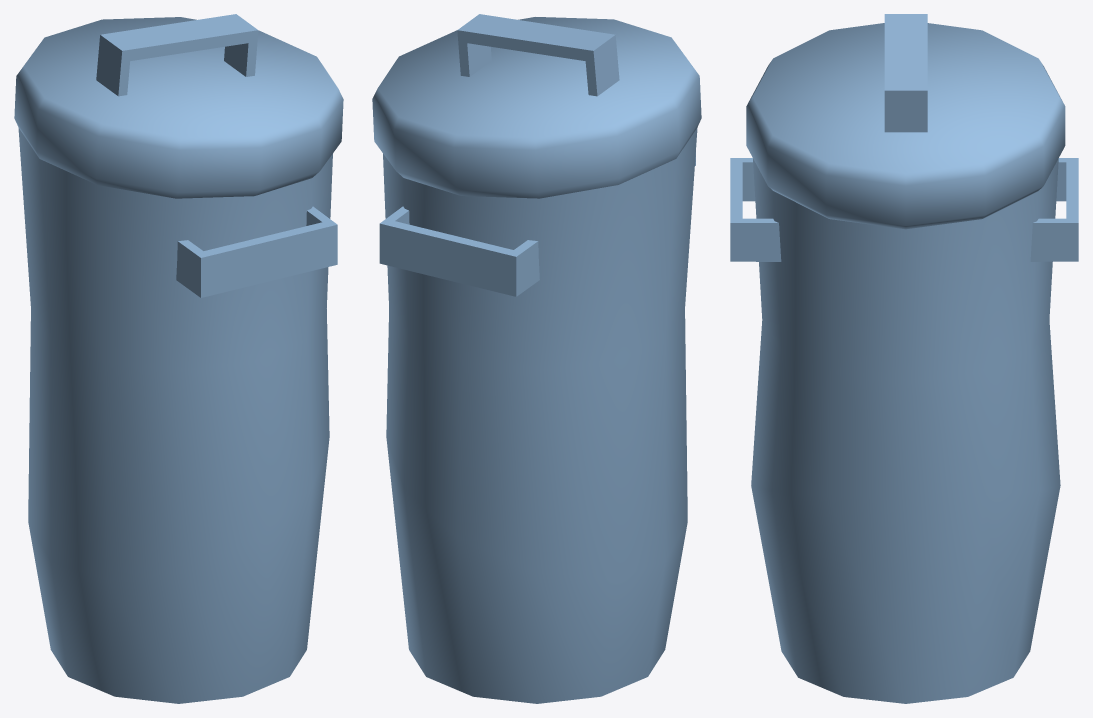
File: PSKtrashCan.FBX
3 views of the same model, side by side, from view 1: azimuth 30°, elevation 25°; view 2: azimuth 150°, elevation 25°; view 3: azimuth 270°, elevation 25° (orthographic). The views are drawn at different scales.
Parts seen in each view (by area): view 1: PSKtrashCan; view 2: PSKtrashCan; view 3: PSKtrashCan.
Part boxes in pixels (bbox=[...]): PSKtrashCan: bbox=[14, 14, 343, 703]; PSKtrashCan: bbox=[372, 14, 701, 703]; PSKtrashCan: bbox=[730, 14, 1078, 703].
Size of the model in its own units: 0.5214 by 1.09 by 0.5685.
